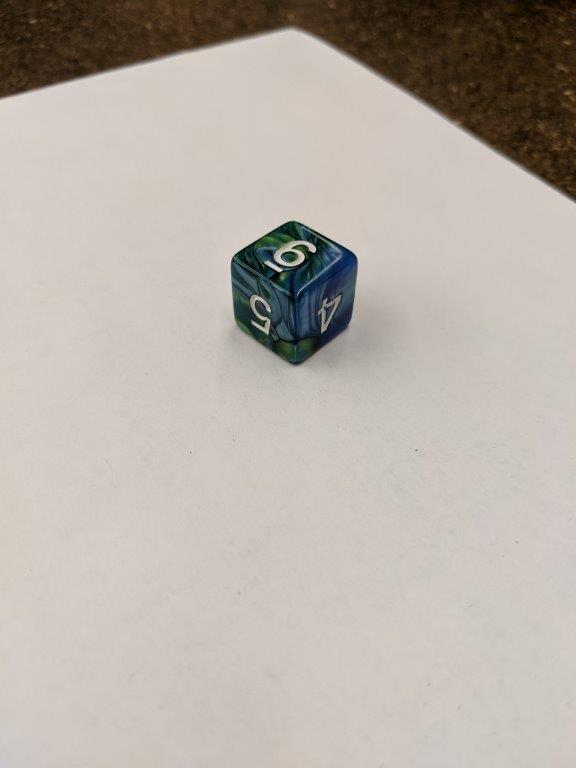d6-6: (233, 219, 356, 367)
